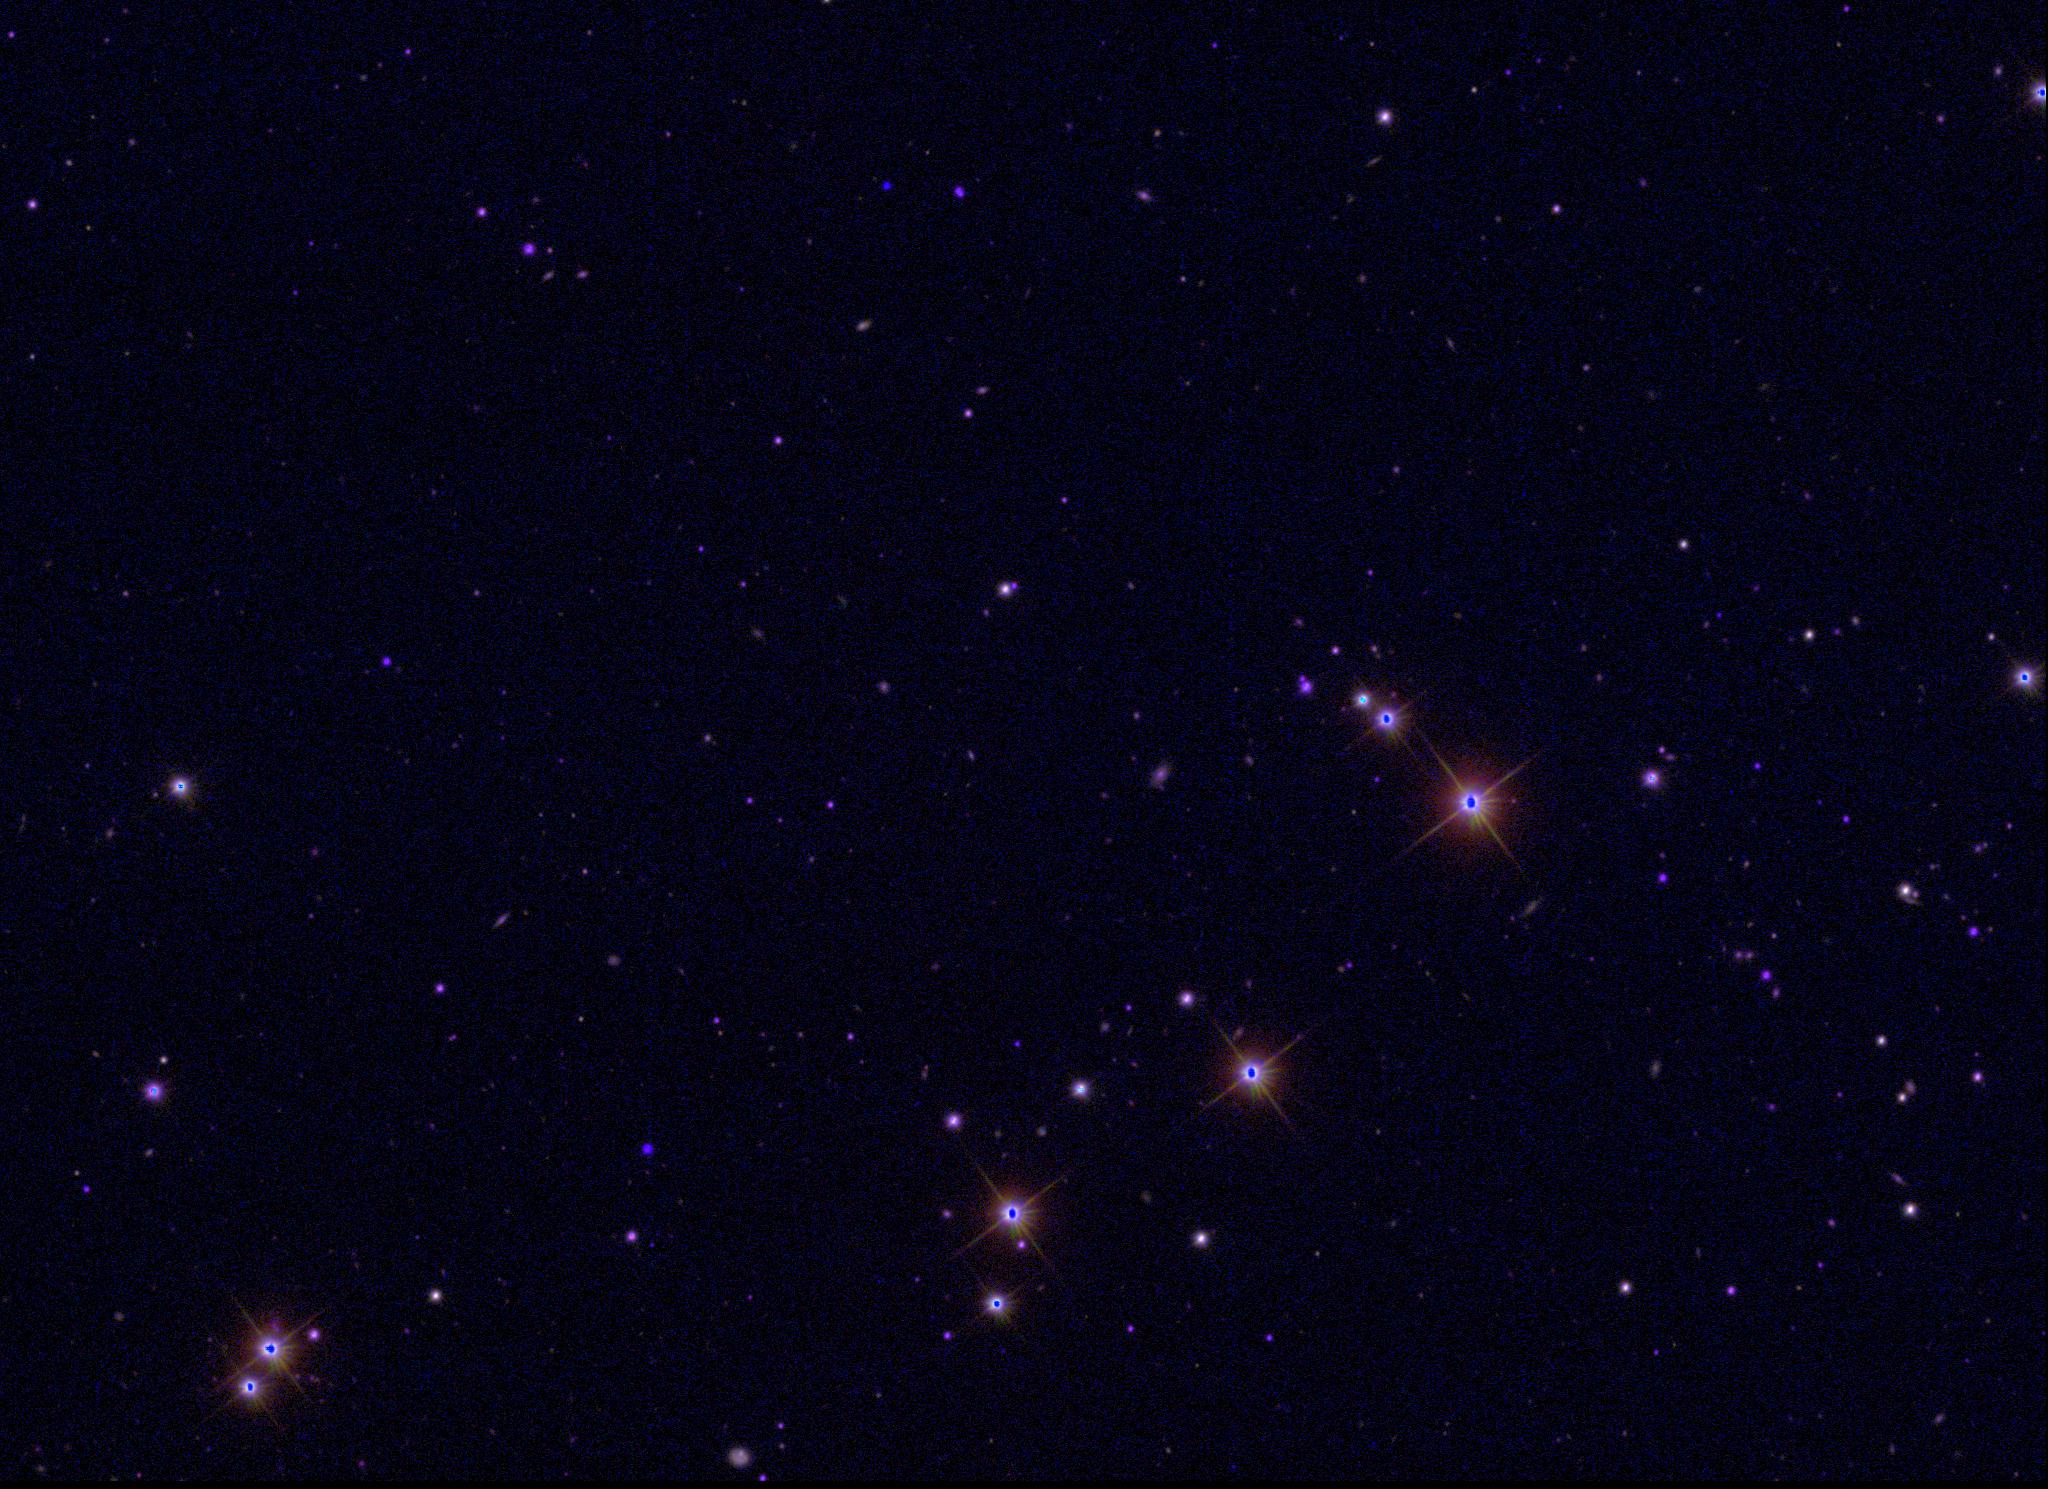L: (879, 178, 894, 192)
